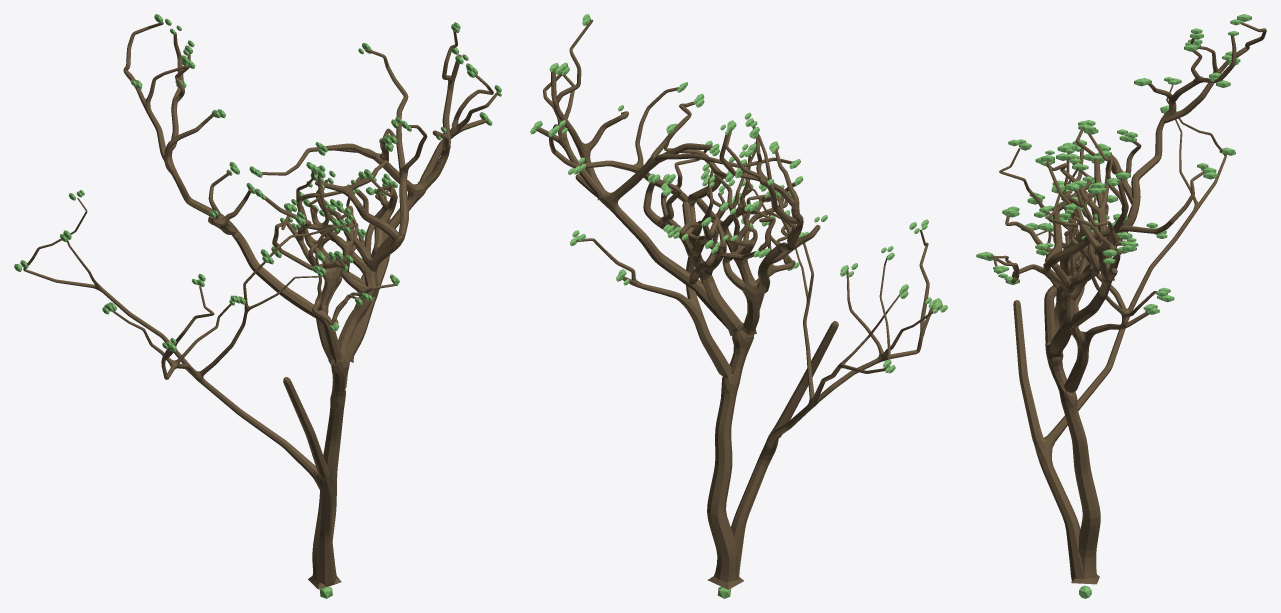
3 views of the same model, side by side, from view 1: azimuth 30°, elevation 25°; view 2: azimuth 150°, elevation 25°; view 3: azimuth 270°, elevation 25° (orthographic). The views are drawn at different scales.
Parts seen in each view (by area): view 1: Arbusto; view 2: Arbusto; view 3: Arbusto.
Part boxes in pixels (x1,y1,x2,y2): Arbusto: (23, 22, 497, 589); Arbusto: (536, 19, 939, 589); Arbusto: (989, 22, 1266, 584).
Size of the model in its own units: 2.56 by 3.23 by 1.57.
